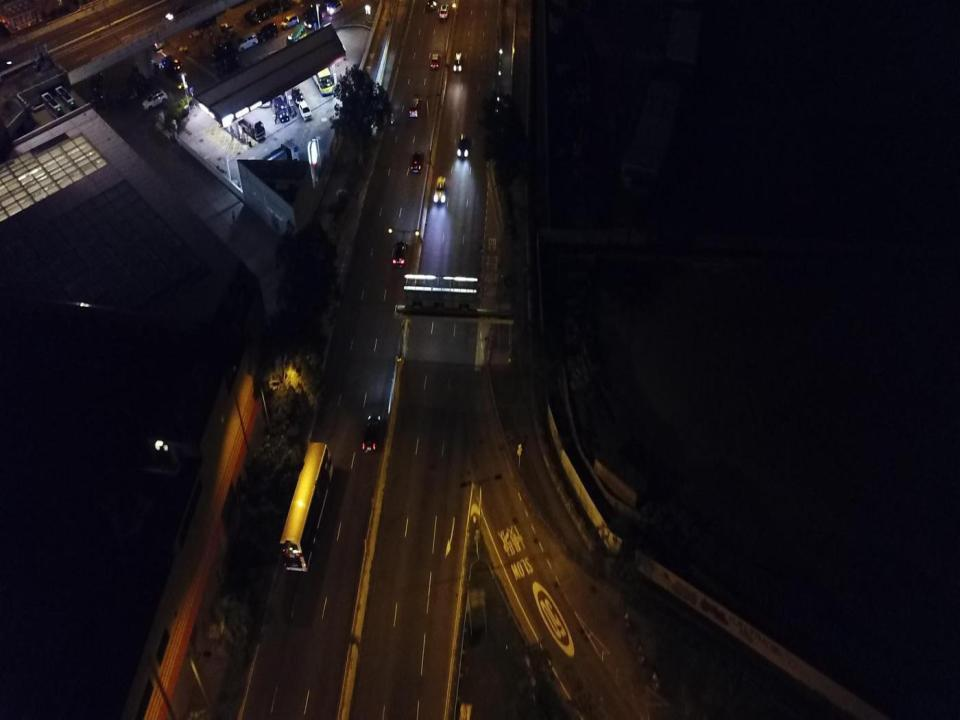bus: (280, 442, 334, 571), (307, 52, 333, 96)
car: (363, 413, 381, 455), (142, 88, 167, 110), (391, 240, 408, 270), (257, 22, 279, 42), (161, 54, 183, 73), (433, 175, 447, 204), (236, 33, 257, 51), (274, 96, 288, 122), (456, 134, 470, 159), (409, 149, 423, 174), (258, 83, 271, 109), (165, 6, 191, 19), (303, 12, 324, 27), (299, 100, 312, 122), (291, 86, 304, 107), (244, 9, 261, 25), (280, 14, 299, 28), (326, 0, 343, 15), (409, 96, 420, 117), (254, 6, 270, 19), (453, 52, 463, 71), (430, 52, 440, 70), (302, 6, 320, 16), (220, 23, 236, 34), (264, 2, 278, 14), (439, 2, 448, 19)
truck: (248, 141, 300, 179)
van: (236, 115, 265, 140), (286, 24, 306, 46)
